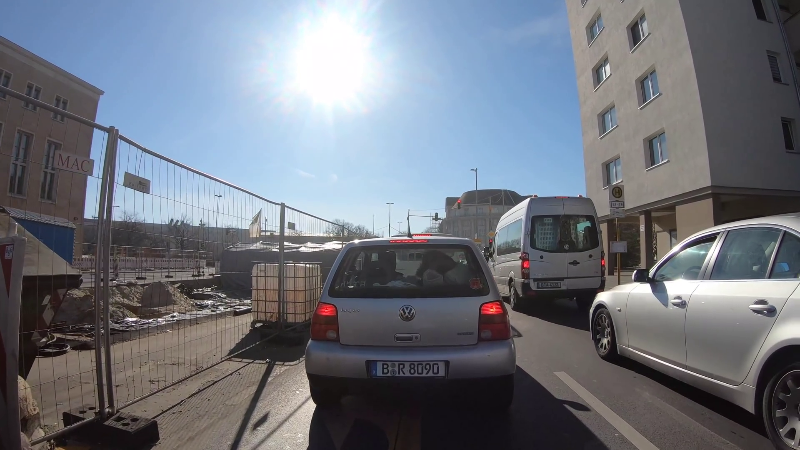Plate: (364, 359, 450, 378), (534, 278, 564, 290)
